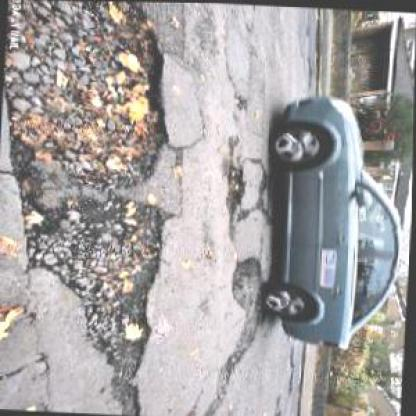pothole: (230, 252, 268, 310), (223, 161, 248, 219)
